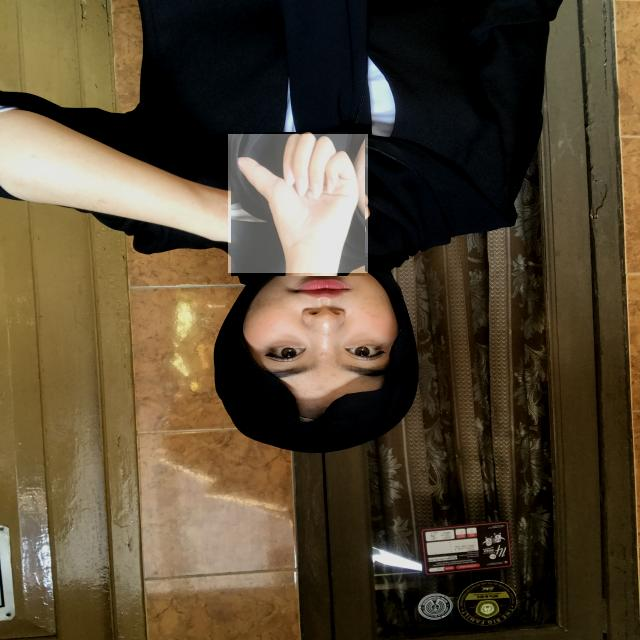sedih: (228, 134, 368, 273)
